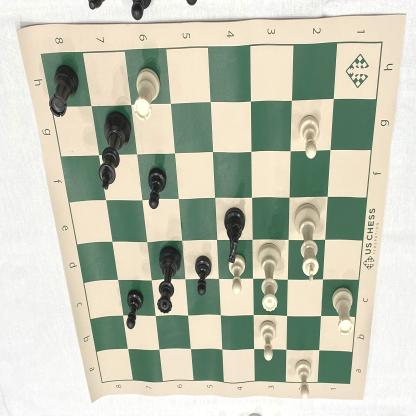black-king: (100, 110, 130, 192)
black-knight: (221, 206, 247, 264)
black-pawn: (146, 169, 167, 211), (125, 289, 145, 331), (195, 254, 213, 297)
black-queen: (156, 246, 182, 317)
black-rook: (48, 63, 78, 120)
white-king: (294, 201, 322, 283)
white-pawn: (298, 113, 322, 162), (258, 318, 279, 363), (294, 358, 312, 400), (228, 254, 246, 295)
white-queen: (255, 243, 282, 313)
white-rook: (134, 67, 162, 123), (330, 286, 356, 338)
